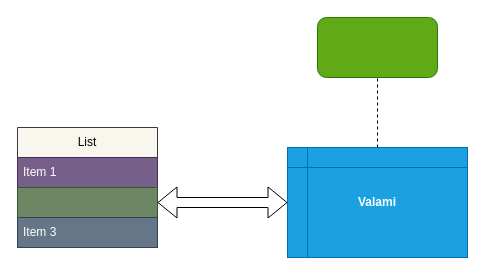
This 485x275 diagram has some shape labels left out. The centre of each missing label's shape, as x and y in pixels:
"Item 2" goes at pixel 87 202.
"Valami 2" goes at pixel 377 47.
